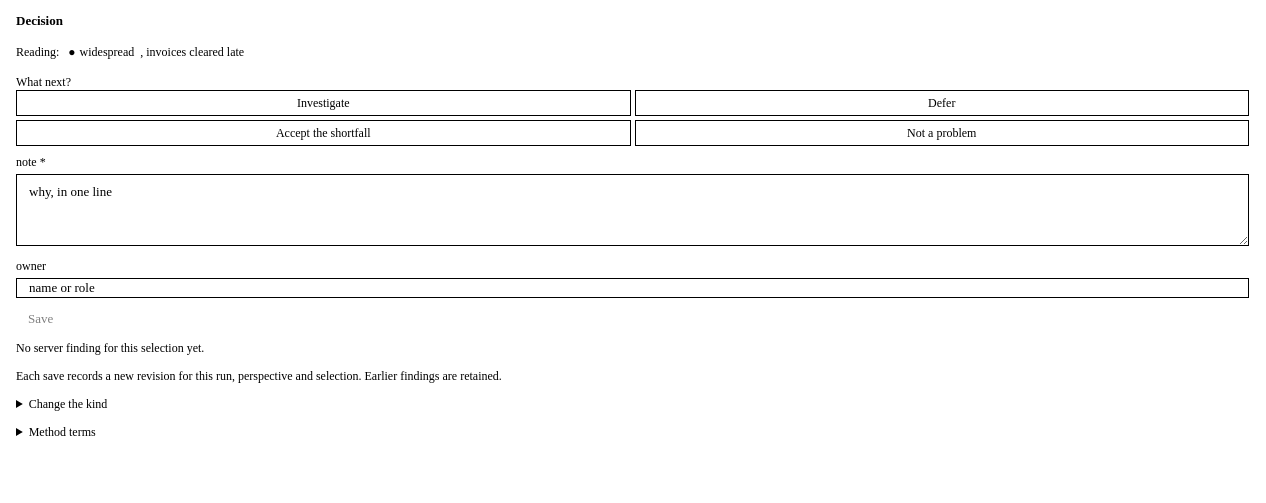
Test: server-persisted decision pane › keeps an unmeasured save visible instead of letting the parent close the editor
The width and height of the screenshot is (1266, 503).
Check: the text box labelled "note *" is enabled, box [16,174,1249,246]
Click the radio button labelled "Investigate" at (323, 103), box [16,90,630,116]
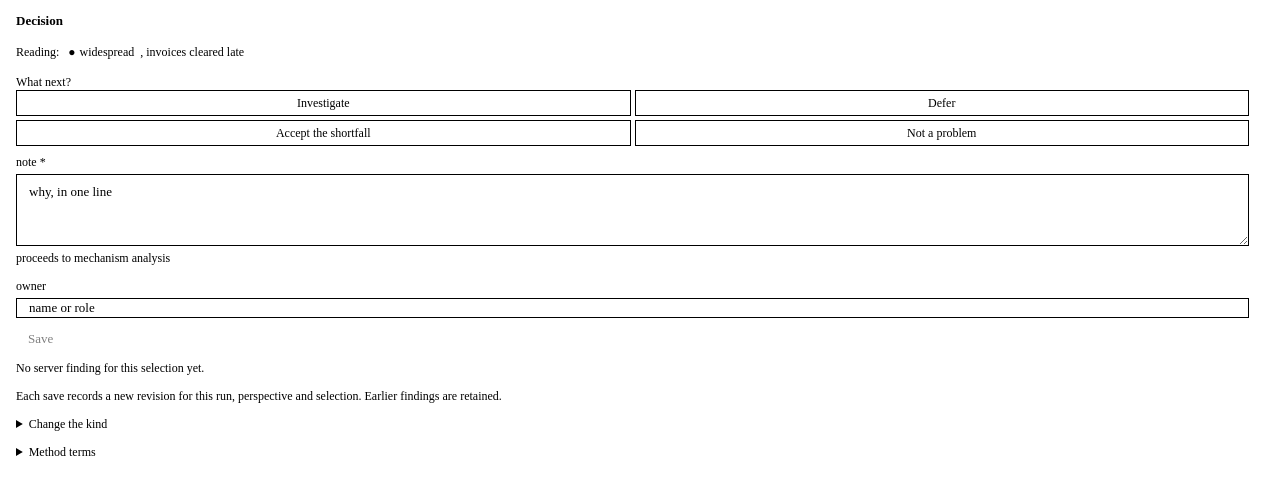
Type "Record evidence gap" into the text box labelled "note *" at (632, 210), box [16,174,1249,246]
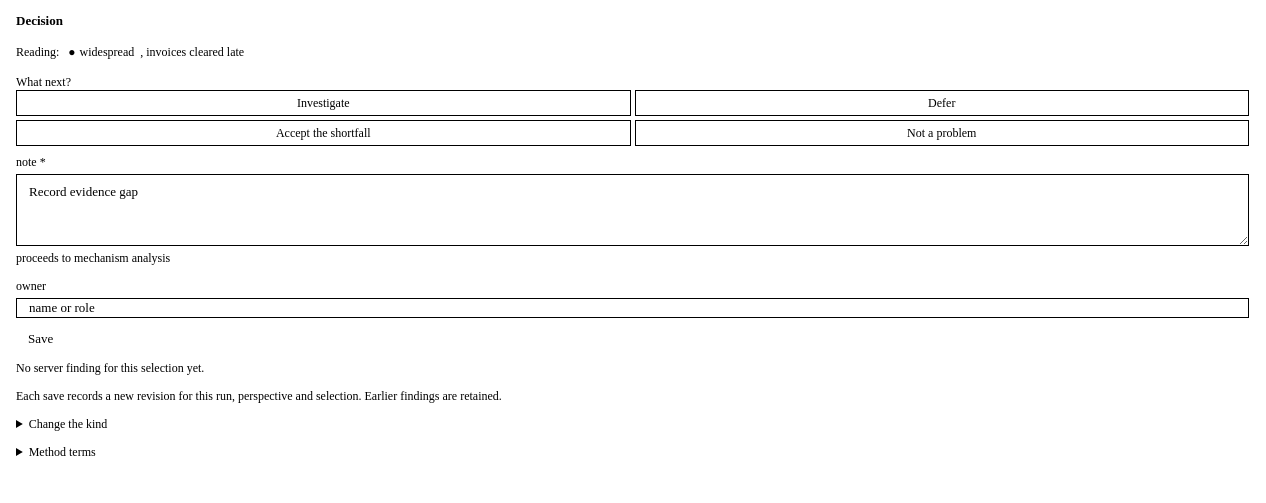
Click the button "Save" at (41, 339), box [16,330,65,348]
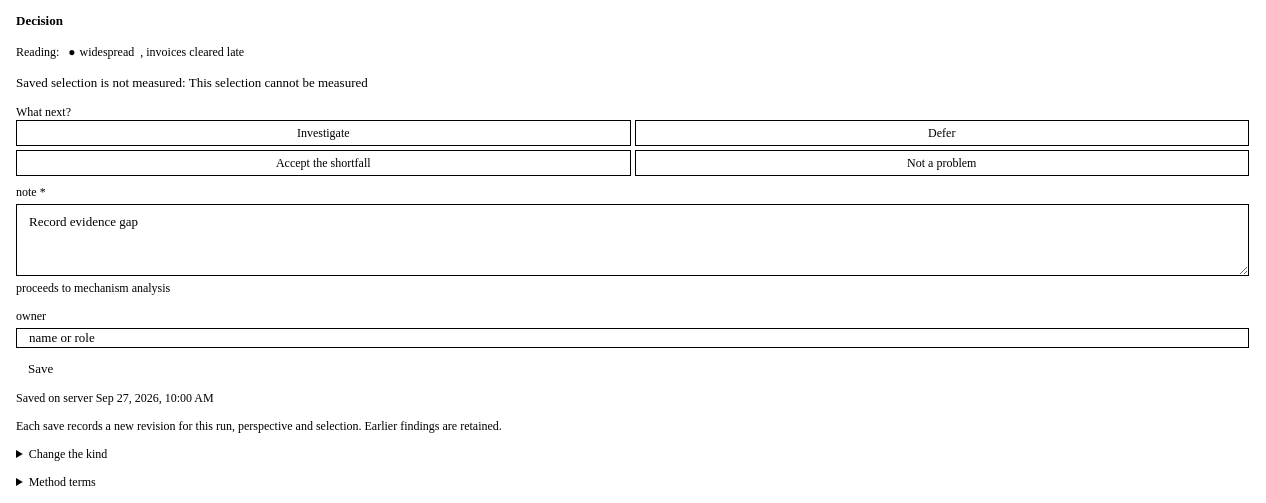
Check: the text with test id "decision-status" shows "Saved on server", box [16,391,214,405]
Check: the message shows "This selection cannot be measured", box [189,75,368,90]
